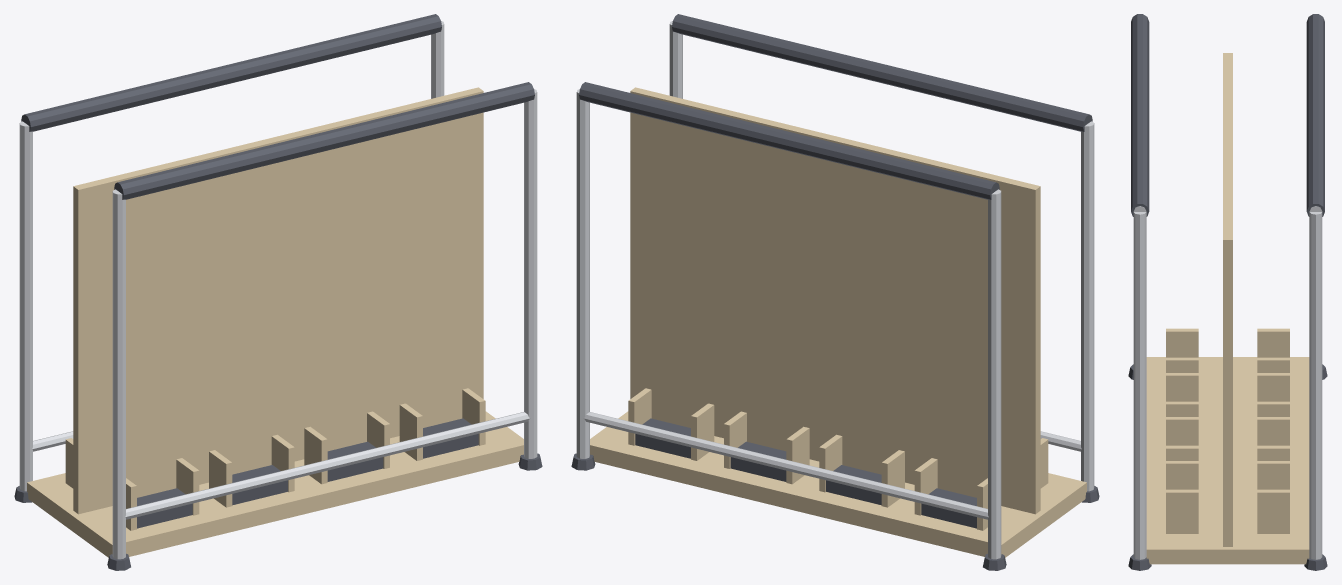
Rendered from snowboard-gear-and-freestyle-riders-floor-board-rack-fdad71f6__27178.glb.
3 renders of one model, left to right at view 1: azimuth 30°, elevation 25°; view 2: azimuth 150°, elevation 25°; view 3: azimuth 270°, elevation 25°, orthographic. The views are drawn at different scales.
Visible parts, largest first — view 1: floor-board-rack; view 2: floor-board-rack; view 3: floor-board-rack.
Part boxes in pixels (x1,y1,x2,y2): floor-board-rack: [14, 14, 542, 570]; floor-board-rack: [571, 14, 1099, 570]; floor-board-rack: [1128, 14, 1327, 570].
Size of the model in its own units: 1.45 by 1.23 by 0.6119.
